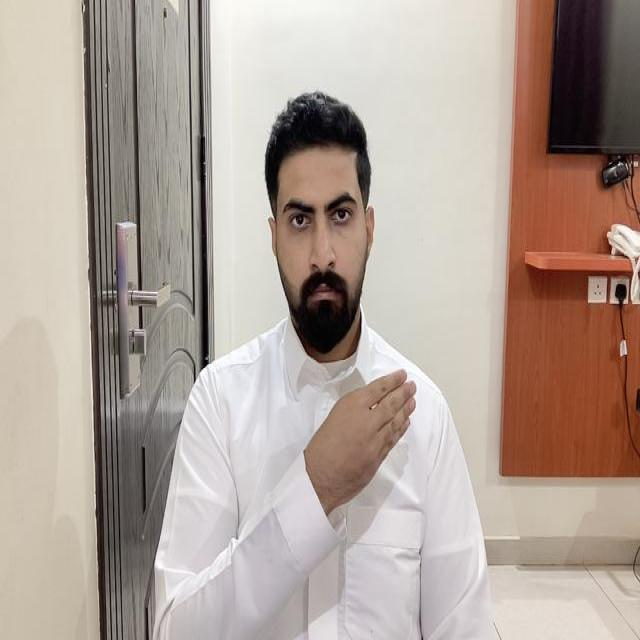result: (303, 368, 417, 513)
